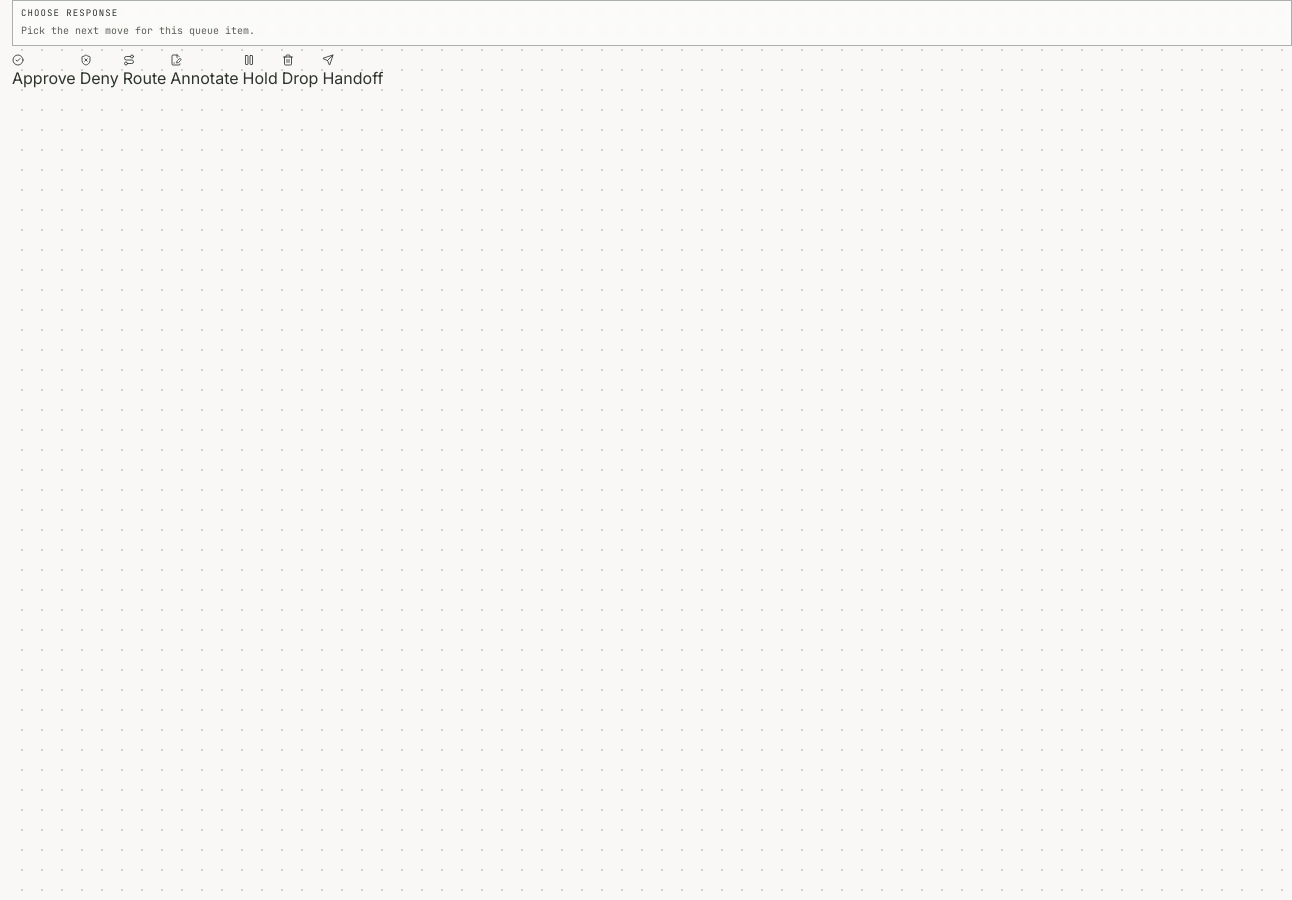
VerbActions — inline error surface (demo-bug fix #2) › renders mc-verb-error with the server error message on failure
The image size is (1292, 900).
Click the button with test id "mc-verb-approve" at (44, 72), box x1=12 y1=54 x2=76 y2=90
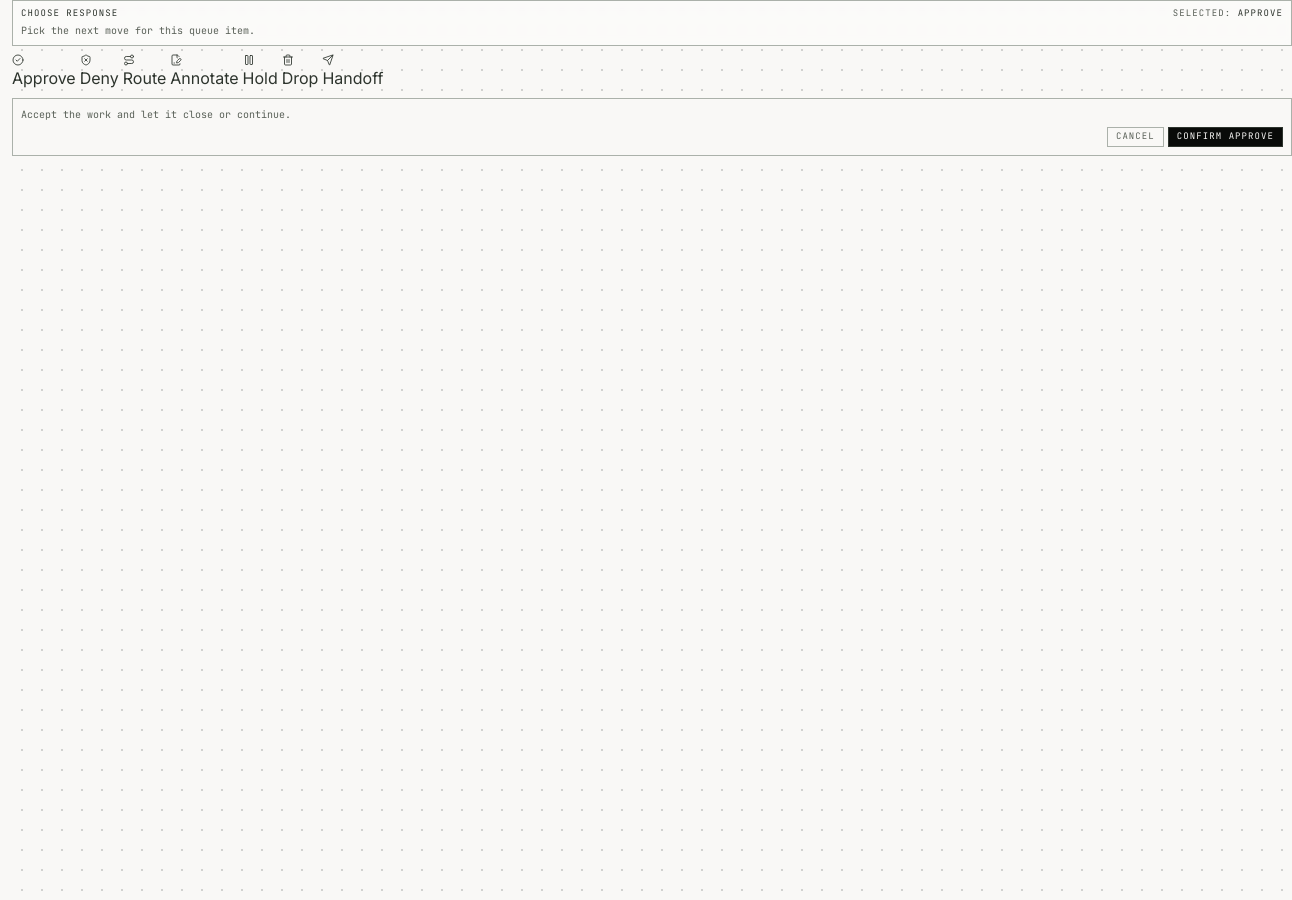
Click the button with test id "mc-verb-submit" at (1225, 137), box x1=1168 y1=127 x2=1283 y2=146
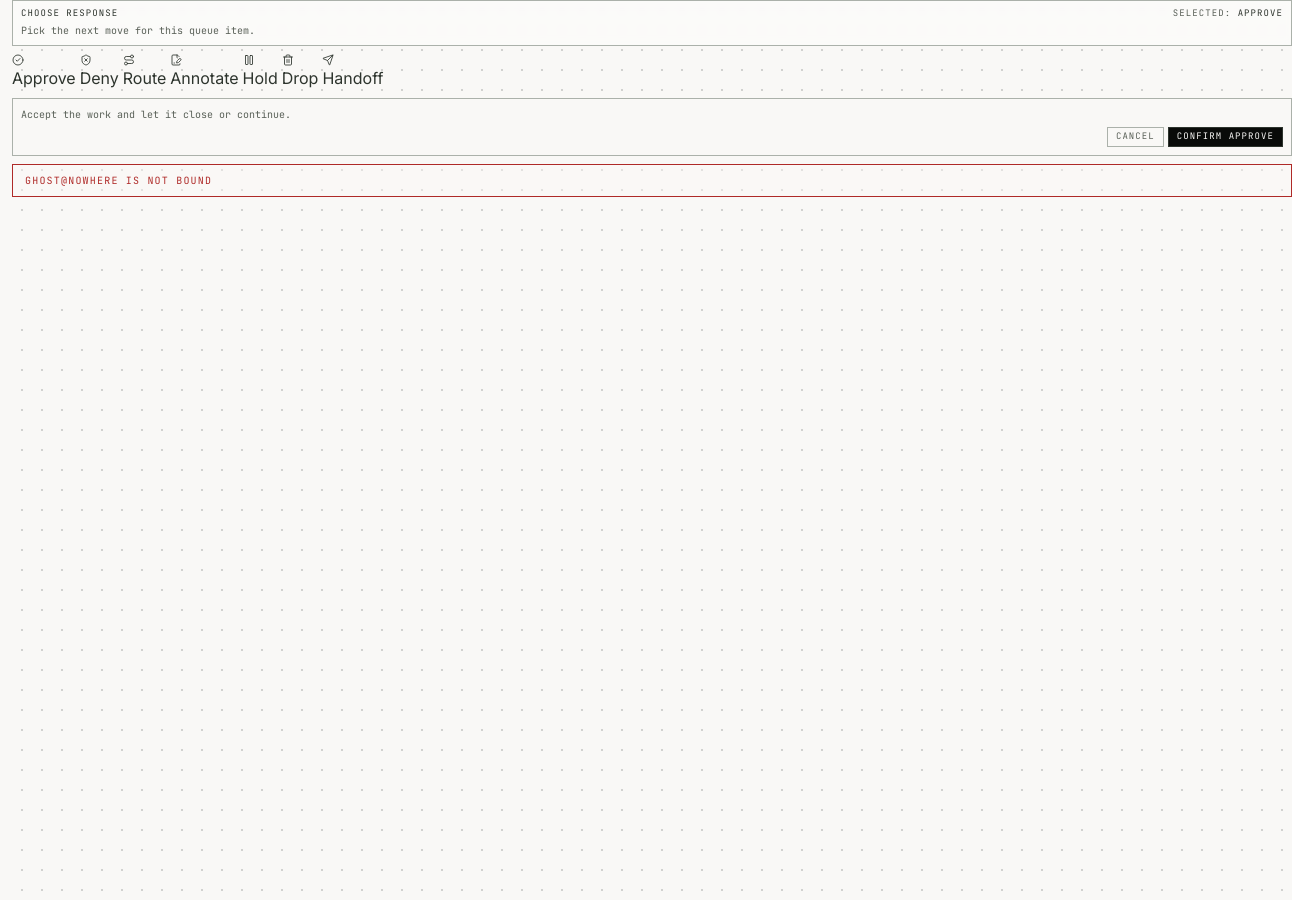
Now the message "ghost@nowhere is not bound" is shown, box x1=12 y1=164 x2=1291 y2=196
Now the message with test id "mc-verb-error" reads "ghost@nowhere is not bound", box x1=25 y1=174 x2=212 y2=186
